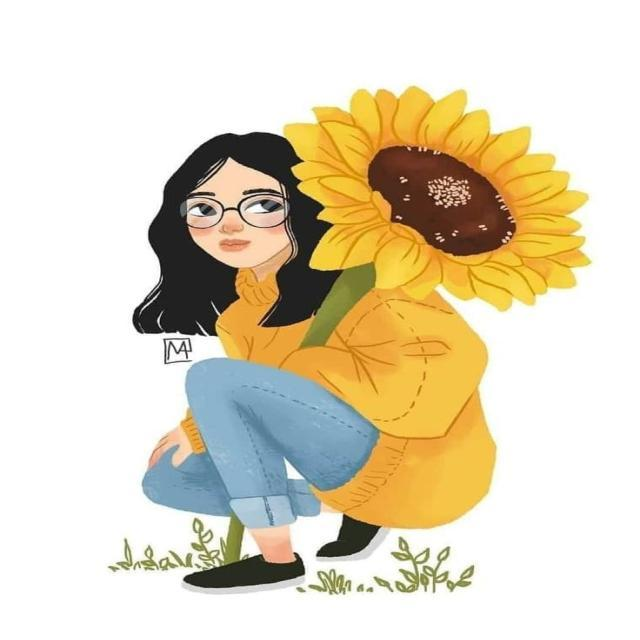sunflower: (282, 87, 592, 310)
